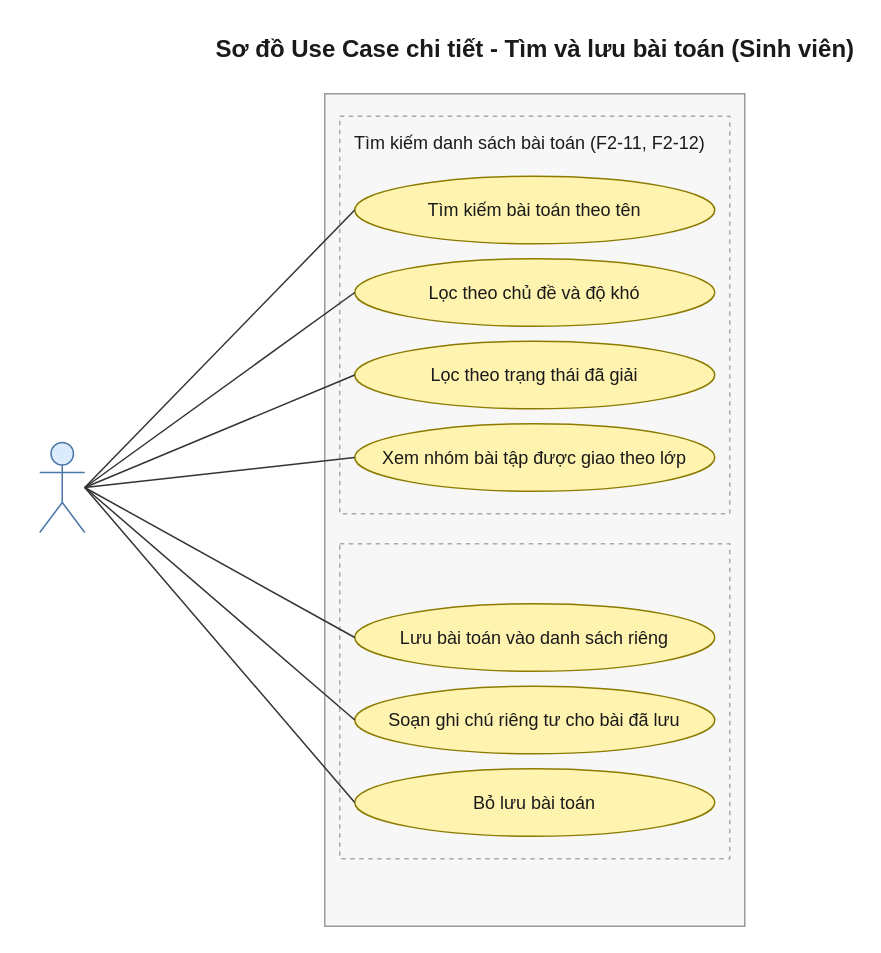
Some shapes in this 881 by 953 pixel diagram are drawn without their labels. Each missing label, with the box of its shape:
Bài đã lưu (F2-13): (338, 542, 730, 859)
Chức năng Tìm và lưu bài toán: (323, 92, 745, 926)
Sinh viên: (38, 441, 85, 532)
